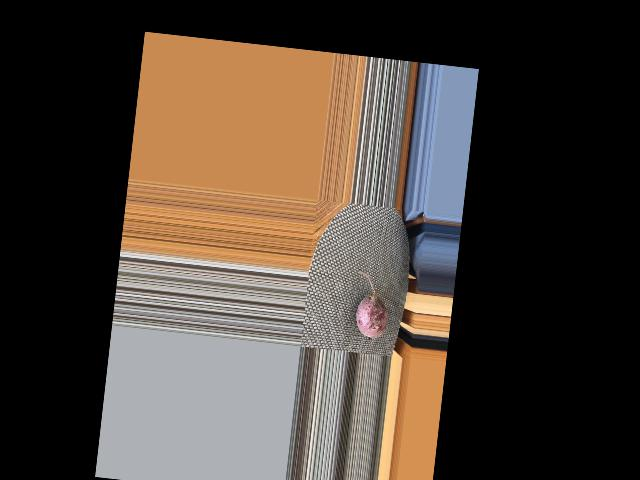beet: (350, 271, 393, 338)
